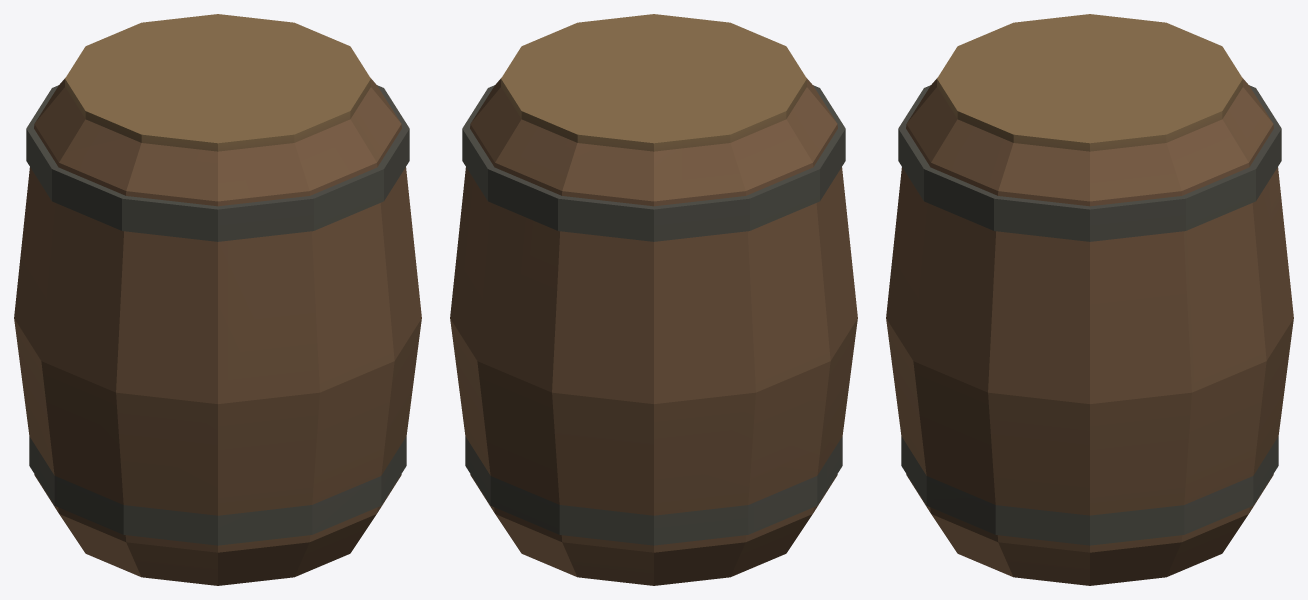
Rendered from SH_Barrel.glb.
The picture shows the model from 3 angles, left to right: view 1: azimuth 30°, elevation 25°; view 2: azimuth 150°, elevation 25°; view 3: azimuth 270°, elevation 25°; orthographic projection.
Visible parts, largest first — view 1: SH_Barrel__Body; view 2: SH_Barrel__Body; view 3: SH_Barrel__Body.
Boxes of the visible parts, box(x1,y1,x2,y2) form: SH_Barrel__Body: box(14, 14, 421, 585); SH_Barrel__Body: box(450, 14, 857, 585); SH_Barrel__Body: box(886, 14, 1293, 585).
Bounding box in the file's own units: 4 × 4.79 × 4.
